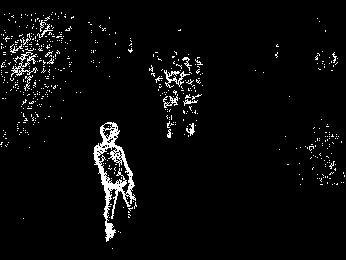person: (98, 119, 138, 239)
